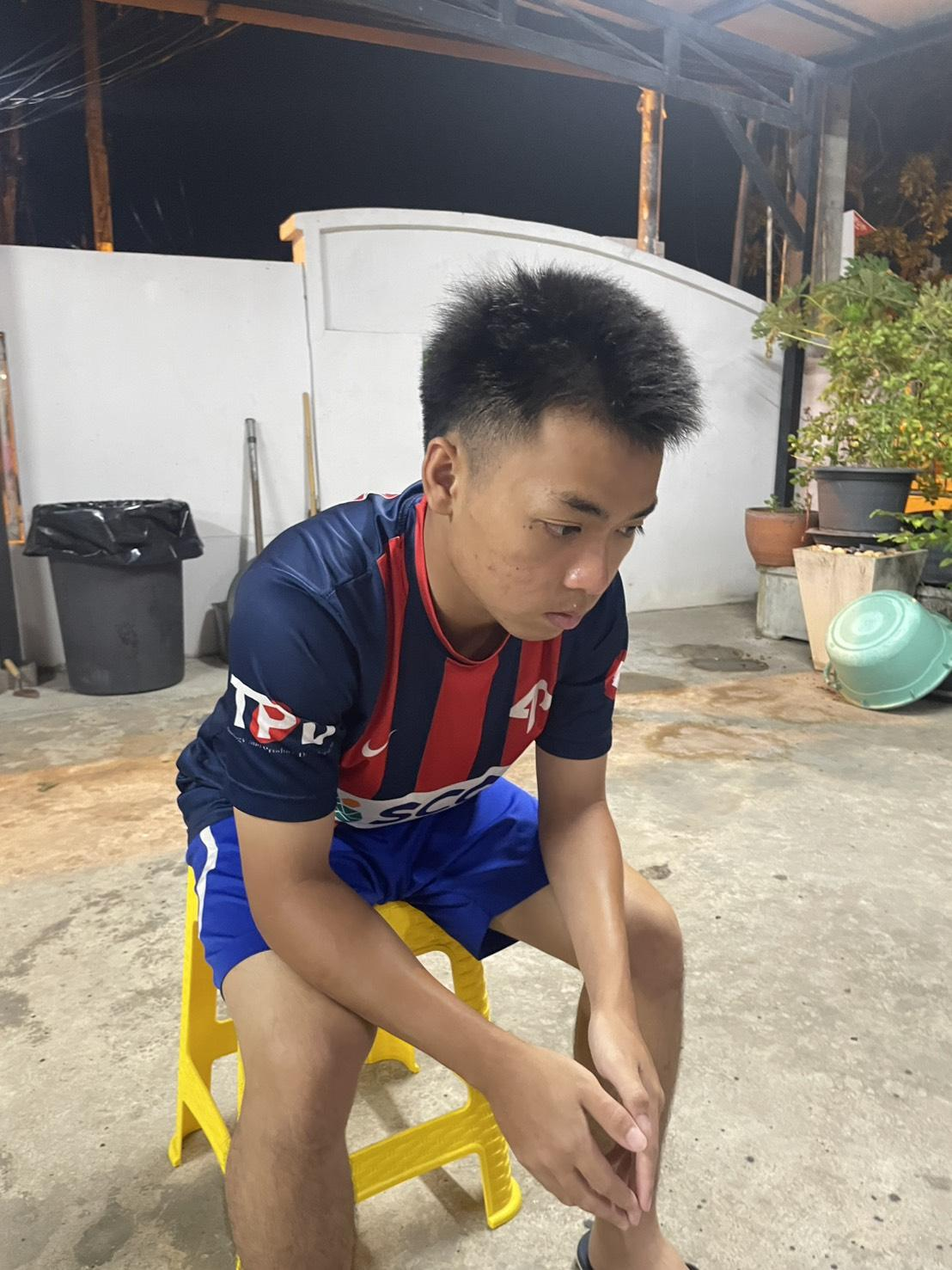BadPosture: (178, 264, 700, 977)
